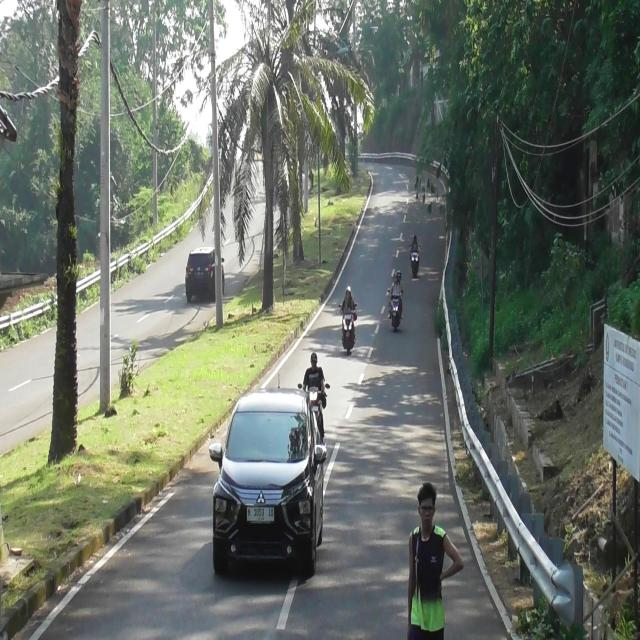motorcycle: (339, 303, 357, 355), (388, 286, 404, 329), (309, 388, 321, 428), (410, 245, 421, 278)
person: (302, 352, 328, 398), (339, 282, 359, 318), (390, 273, 401, 296), (409, 236, 422, 255), (394, 270, 402, 290)
rider_region: (302, 349, 326, 424), (336, 281, 359, 354), (387, 268, 406, 330), (407, 229, 423, 277)
